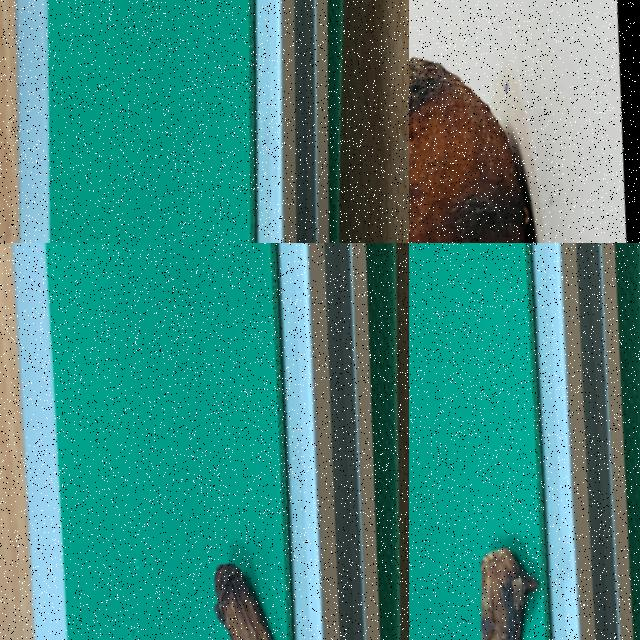Agglomerated_cocoabeans: (409, 0, 613, 242)
Flat_cocoabeans: (418, 484, 600, 639), (183, 502, 364, 639)
